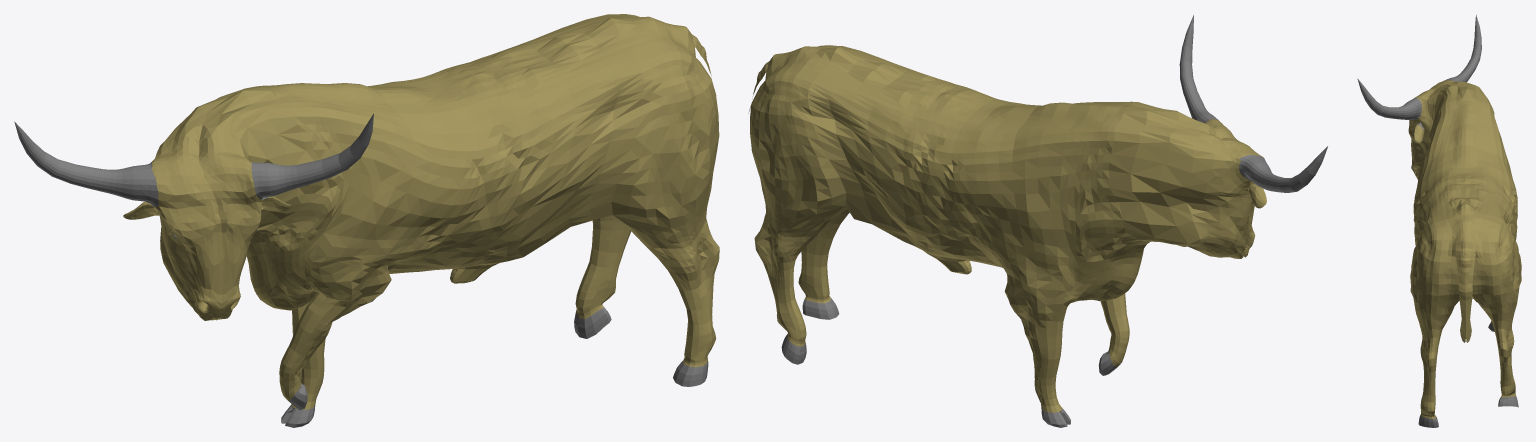
The picture shows the model from 3 angles, left to right: view 1: azimuth 30°, elevation 25°; view 2: azimuth 150°, elevation 25°; view 3: azimuth 270°, elevation 25°; orthographic projection. The views are drawn at different scales.
Parts seen in each view (by area): view 1: Cattle; view 2: Cattle; view 3: Cattle.
Part boxes in pixels (x1,y1,x2,y2): Cattle: (14,14,719,427); Cattle: (748,15,1327,427); Cattle: (1357,14,1521,427).
Size of the model in its own units: 332 by 187 by 116.
